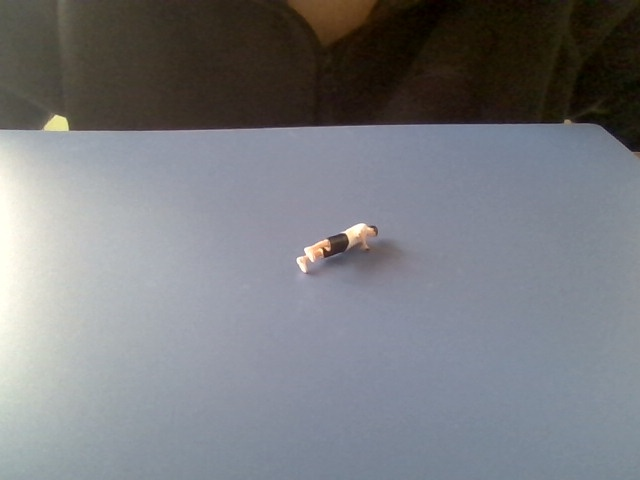fall: (288, 219, 384, 279)
